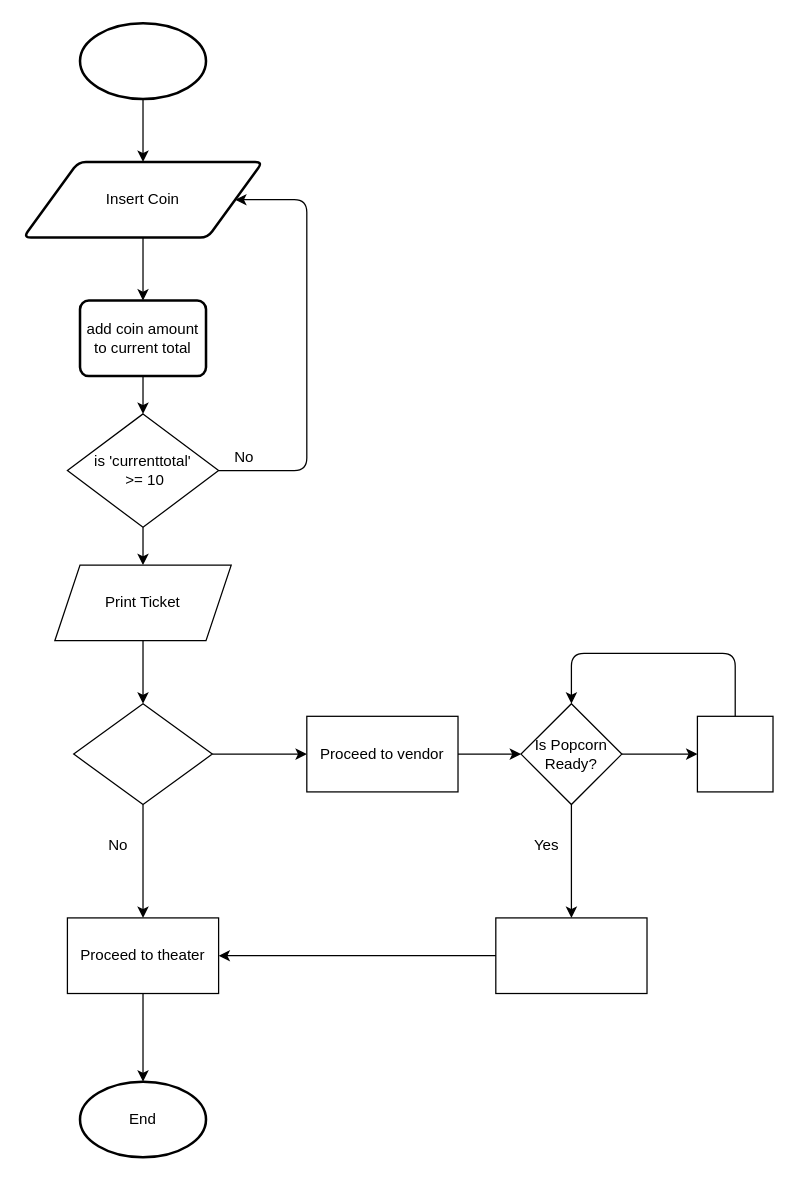
This 795x1179 diagram has some shape labels left out. Each missing label, with the centre of its shape:
Do you want popcorn?: point 142,753
Gather Popcorn: point 571,955
Start: point 142,60
Wait: point 734,753
